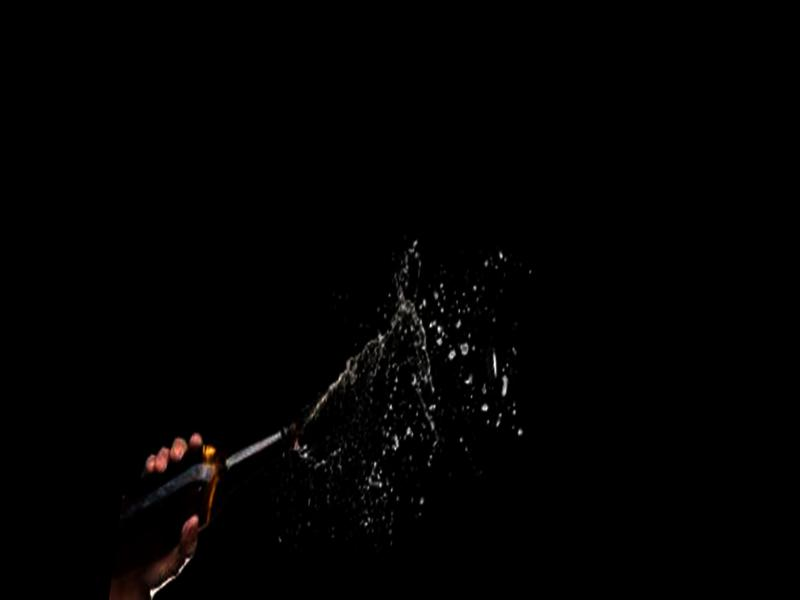Beer: (112, 396, 299, 600)
